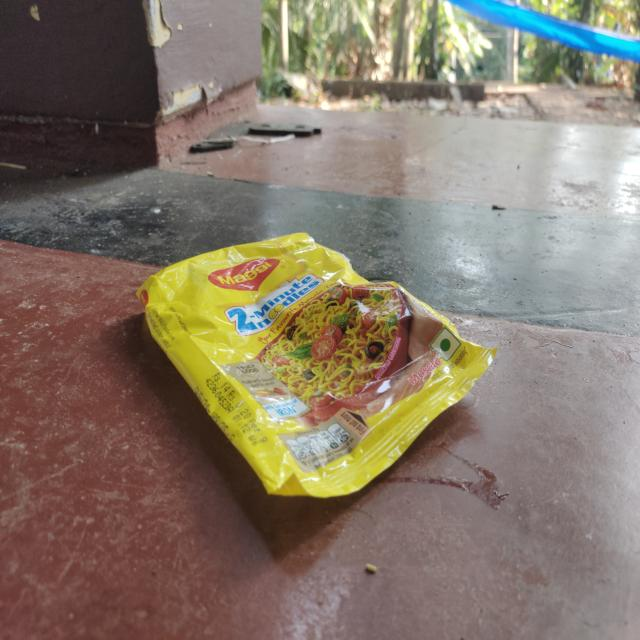plastic: (131, 225, 499, 501)
